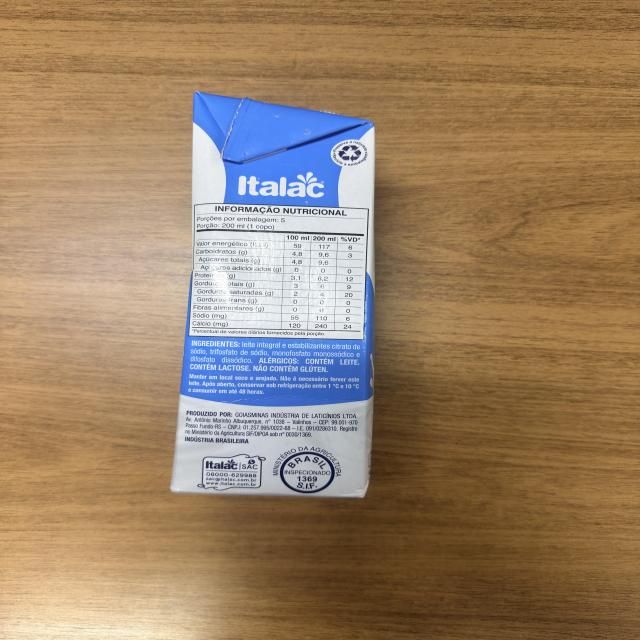Caixa de Leite: (171, 90, 377, 497)
